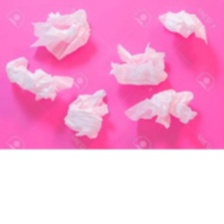tissue: (119, 83, 203, 134), (25, 4, 96, 64), (2, 51, 79, 106), (105, 37, 173, 91), (61, 85, 112, 141), (154, 5, 212, 49)
